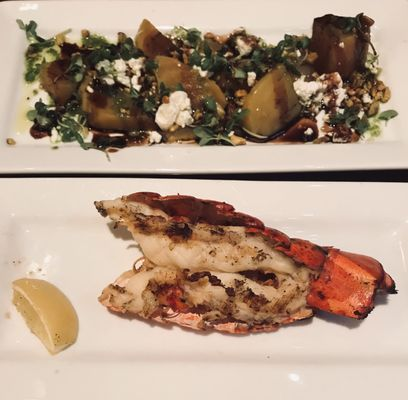curry: (16, 19, 61, 83)
